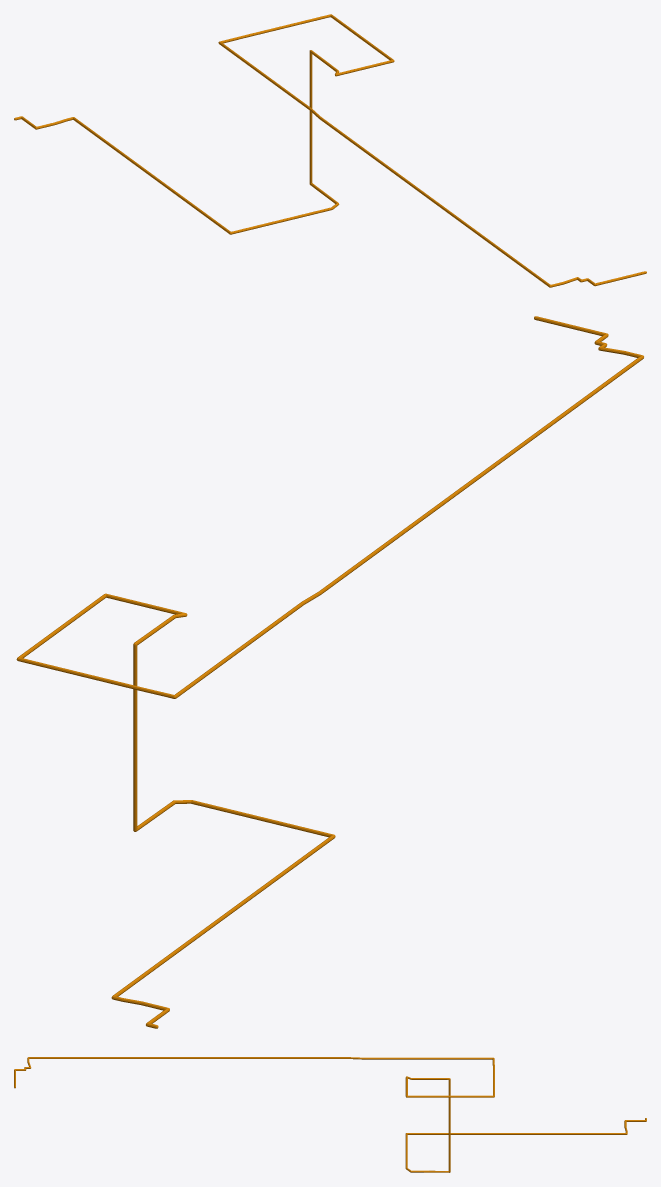
3 views of the same model, one above another, from view 1: azimuth 30°, elevation 25°; view 2: azimuth 150°, elevation 25°; view 3: azimuth 270°, elevation 25° (orthographic). The views are drawn at different scales.
Size of the model in its own units: 1655 by 1020 by 6182.
